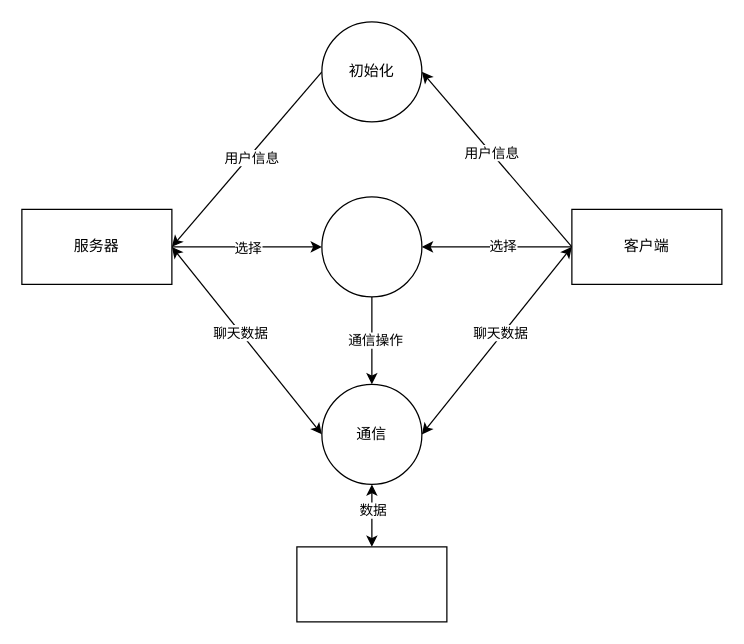
Some shapes in this 744 by 644 pixel diagram are drawn without their labels. The shapes that lost their labels are listed below. From the top down, each one's centre as x and y in pixels, then its label:
the point at 371,246: 功能选择
the point at 371,584: 数据库
